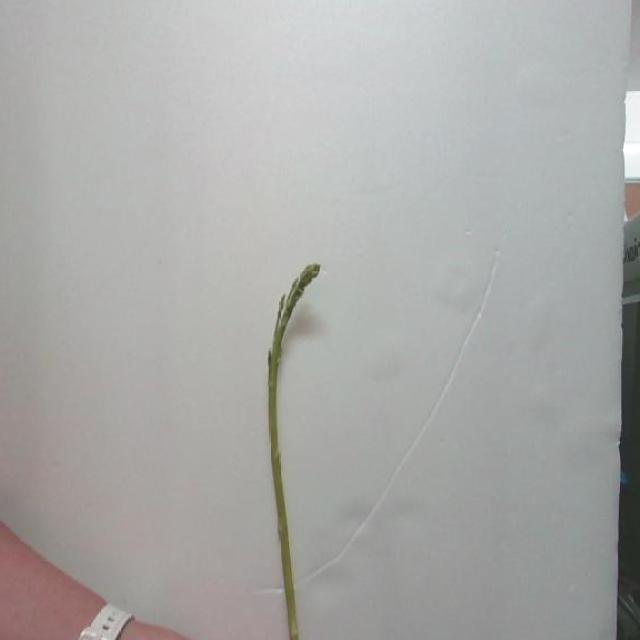aspargus: (268, 265, 322, 640)
